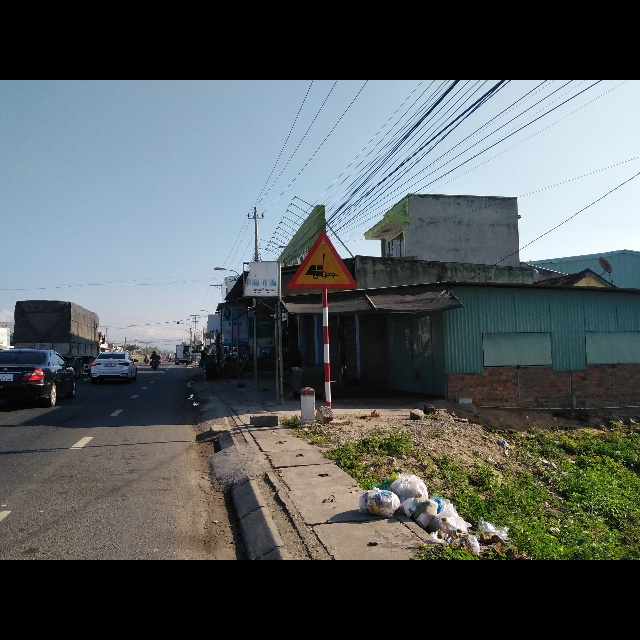Đoạn đường hay xảy ra tai nạn: (285, 228, 358, 292)
